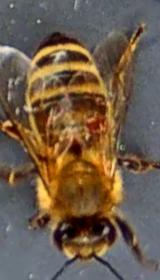varroa_mite: (71, 108, 115, 143)
